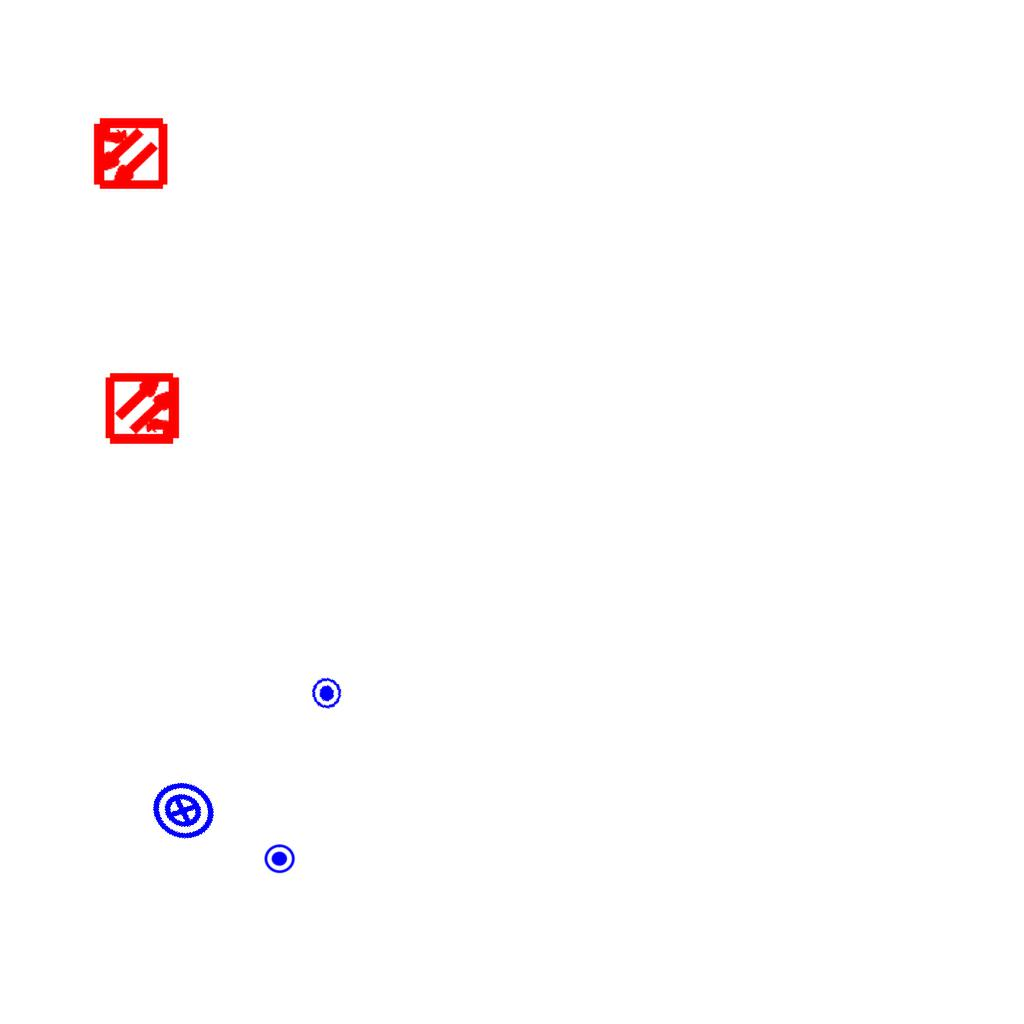OT_Multisensormelder_(Kombination_RMO_WMD): (72, 97, 185, 210), (88, 352, 201, 465)
Taster: (306, 674, 345, 713), (263, 841, 296, 874)
Taster_beleuchtet: (140, 768, 226, 854)
